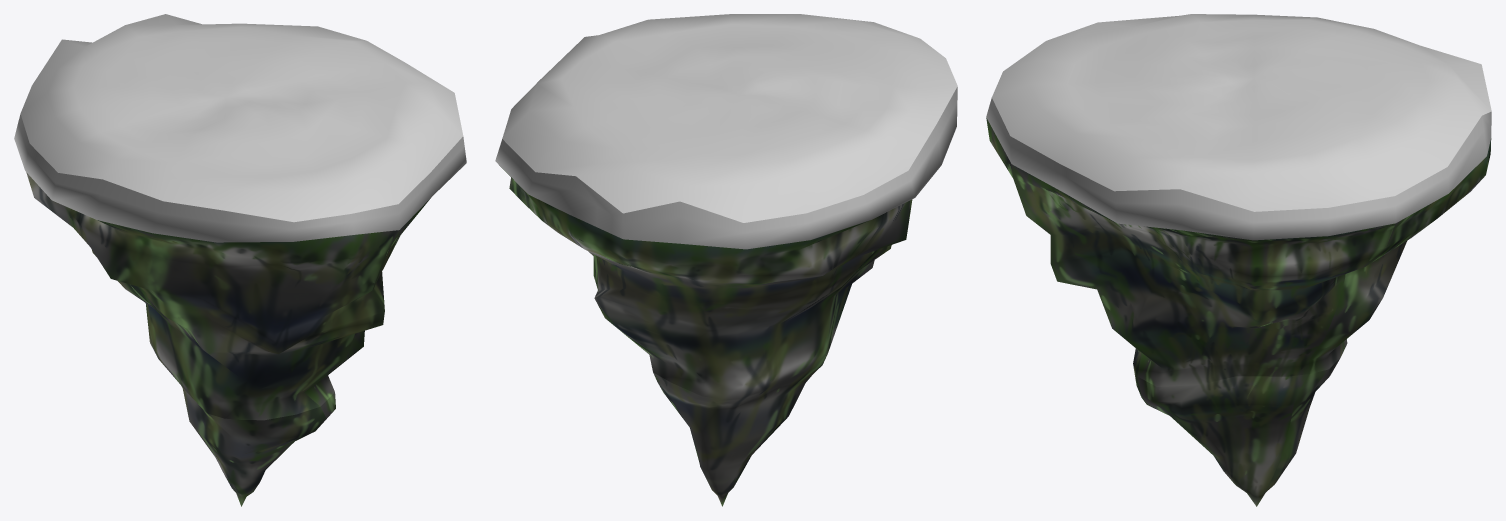
Rendered from flatisland.obj.
3 renders of one model, left to right at view 1: azimuth 30°, elevation 25°; view 2: azimuth 150°, elevation 25°; view 3: azimuth 270°, elevation 25°, orthographic.
Visible parts, largest first — view 1: IslandLowP1; view 2: IslandLowP1; view 3: IslandLowP1.
Boxes of the visible parts, left/top/right/bottom form: IslandLowP1: left=14, top=14, right=466, bottom=506; IslandLowP1: left=495, top=14, right=957, bottom=506; IslandLowP1: left=986, top=14, right=1491, bottom=506.
Bounding box in the file's own units: 50.18 × 52.58 × 56.73.
